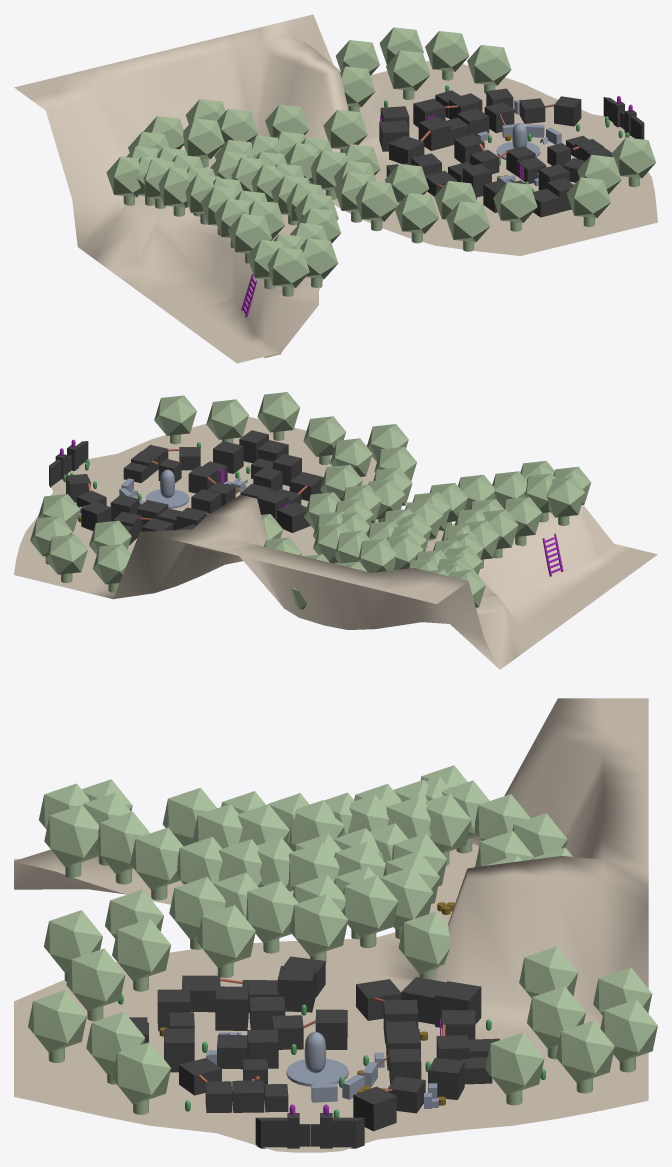
File: Village.fbx
The picture shows the model from 3 angles, top to bottom: view 1: azimuth 30°, elevation 25°; view 2: azimuth 150°, elevation 25°; view 3: azimuth 270°, elevation 25°; orthographic projection. The views are drawn at different scales.
Parts seen in each view (by area): view 1: pCube57, pCylinder65, pCylinder67, pCylinder69, pCylinder68, pCylinder75, pCylinder77, pCylinder63, pCylinder71, pCylinder44, pCylinder78, pCylinder22 (+46 smaller); view 2: pCube57, pCylinder69, pCylinder76, pCylinder71, pCylinder70, pCylinder68, pCylinder40, pCylinder74, pCylinder39, pCylinder66, pCylinder54, pCylinder77 (+48 smaller); view 3: pCube57, pCylinder78, pCylinder77, pCylinder64, pCylinder68, pCylinder69, pCylinder71, pCylinder66, pCylinder45, pCylinder58, pCylinder59, pCylinder76 (+66 smaller).
Part boxes in pixels (box(x1,y1,x2,y2)): pCube57: box(14, 14, 657, 363); pCylinder65: box(394, 193, 438, 243); pCylinder67: box(446, 201, 490, 251); pCylinder69: box(566, 177, 610, 226); pCylinder68: box(493, 182, 537, 231); pCylinder75: box(386, 50, 430, 99); pCylinder77: box(425, 31, 469, 80); pCylinder63: box(355, 181, 397, 231); pCylinder71: box(611, 137, 655, 187); pCylinder44: box(267, 247, 309, 296); pCylinder78: box(467, 45, 511, 93); pCylinder22: box(183, 118, 224, 167); pCube57: box(14, 416, 657, 669); pCylinder69: box(257, 392, 300, 440); pCylinder76: box(45, 534, 87, 582); pCylinder71: box(154, 395, 196, 444); pCylinder70: box(206, 399, 248, 443); pCylinder68: box(303, 416, 345, 464); pCylinder40: box(546, 477, 584, 525); pCylinder74: box(93, 544, 130, 592); pCylinder39: box(503, 497, 541, 546); pCylinder66: box(330, 438, 372, 476); pCylinder54: box(357, 538, 396, 572); pCylinder77: box(30, 516, 72, 564); pCube57: box(14, 698, 648, 1152); pCylinder78: box(485, 1032, 544, 1105); pCylinder77: box(556, 1020, 614, 1093); pCylinder64: box(196, 905, 255, 977); pCylinder68: box(66, 948, 125, 1021); pCylinder69: box(28, 990, 86, 1062); pCylinder71: box(112, 1042, 170, 1114); pCylinder66: box(112, 918, 170, 991); pCylinder45: box(44, 804, 99, 878); pCylinder58: box(343, 875, 398, 948); pCylinder59: box(289, 894, 348, 963); pCylinder76: box(600, 999, 657, 1072).
Bounding box in the file's own units: 108 × 23.54 × 84.42.
